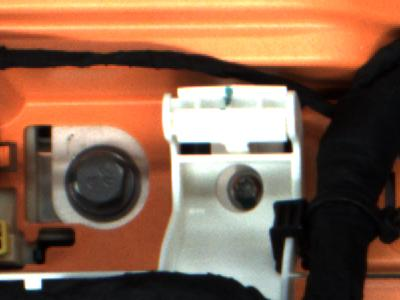nut_b: (61, 136, 148, 228)
